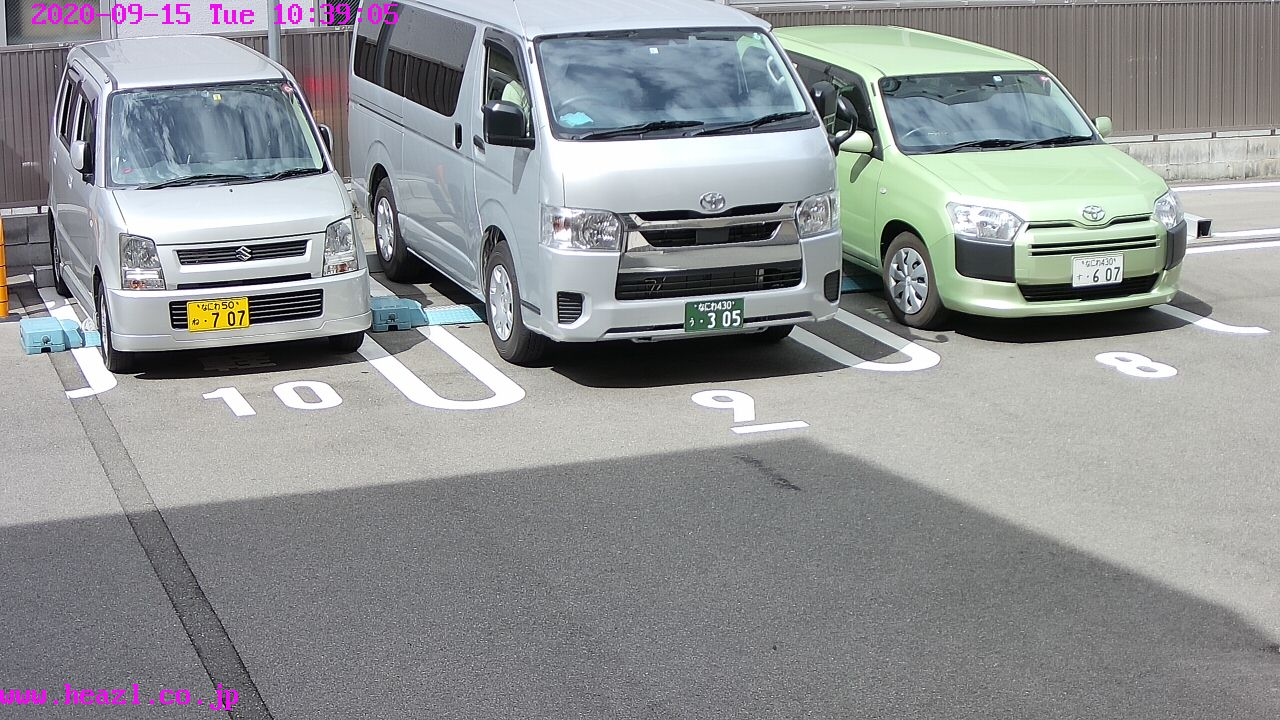number_plate: (188, 298, 248, 330), (686, 301, 747, 332), (1071, 256, 1122, 284)
